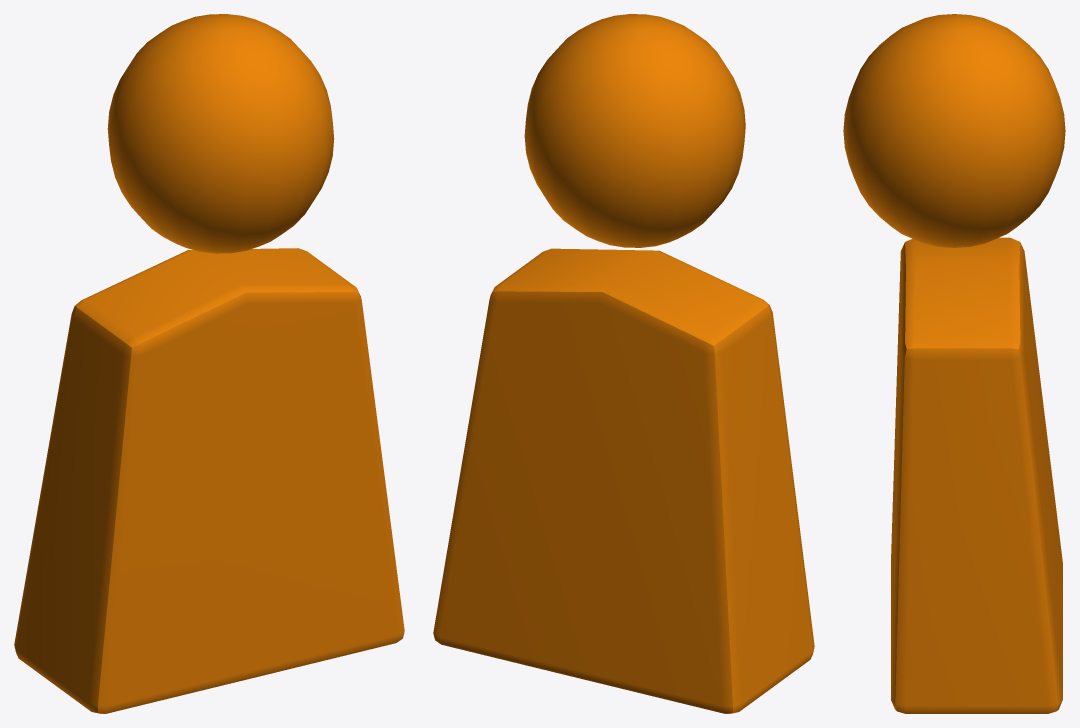
Rendered from Avatar_Body.fbx.
3 renders of one model, left to right at view 1: azimuth 30°, elevation 25°; view 2: azimuth 150°, elevation 25°; view 3: azimuth 270°, elevation 25°, orthographic. The views are drawn at different scales.
Visible parts, largest first — view 1: polySurface3; view 2: polySurface3; view 3: polySurface3.
Part boxes in pixels (x1,y1,x2,y2): polySurface3: (14,14,404,713); polySurface3: (433,14,814,713); polySurface3: (843,14,1065,713).
Size of the model in its own units: 0.4904 by 0.9481 by 0.3074.
